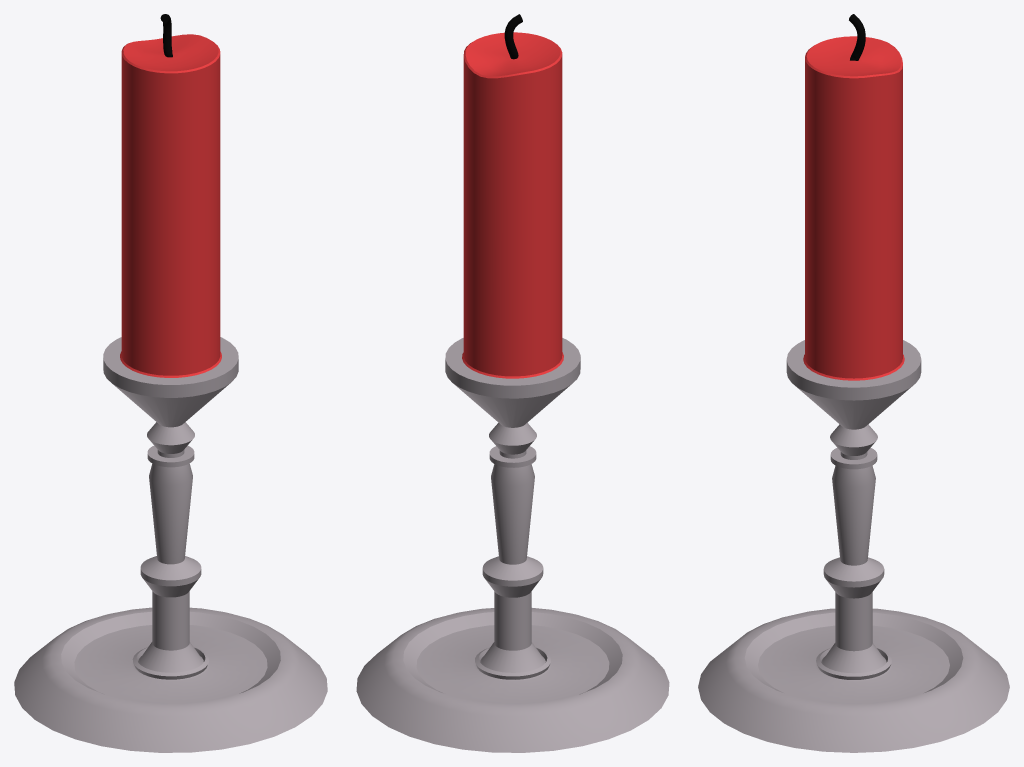
Rendered from RedCandle.fbx.
3 renders of one model, left to right at view 1: azimuth 30°, elevation 25°; view 2: azimuth 150°, elevation 25°; view 3: azimuth 270°, elevation 25°, orthographic.
Parts seen in each view (by area): view 1: Candle; view 2: Candle; view 3: Candle.
Boxes of the visible parts, x1,y1,x2,y2 form: Candle: [14, 14, 327, 752]; Candle: [356, 14, 669, 752]; Candle: [698, 14, 1009, 752].
Size of the model in its own units: 13.4 by 31.74 by 13.4.
